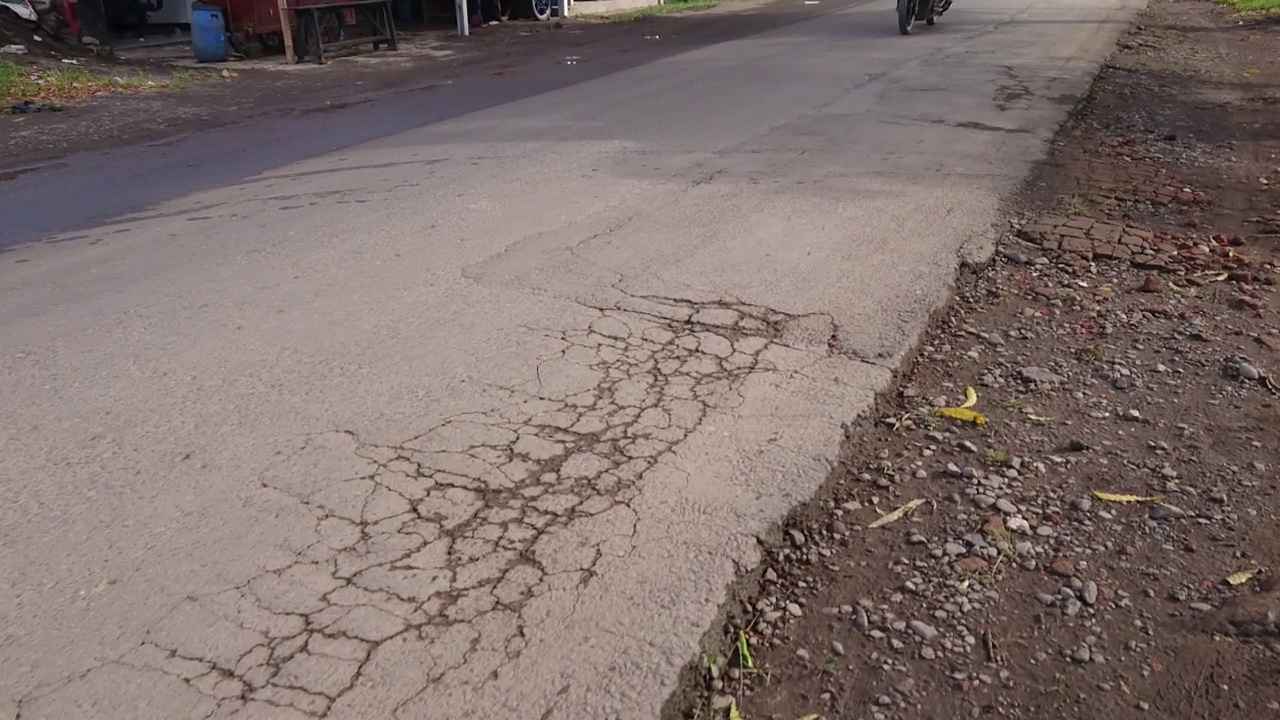Retak: (226, 288, 788, 705), (980, 49, 1078, 117)
